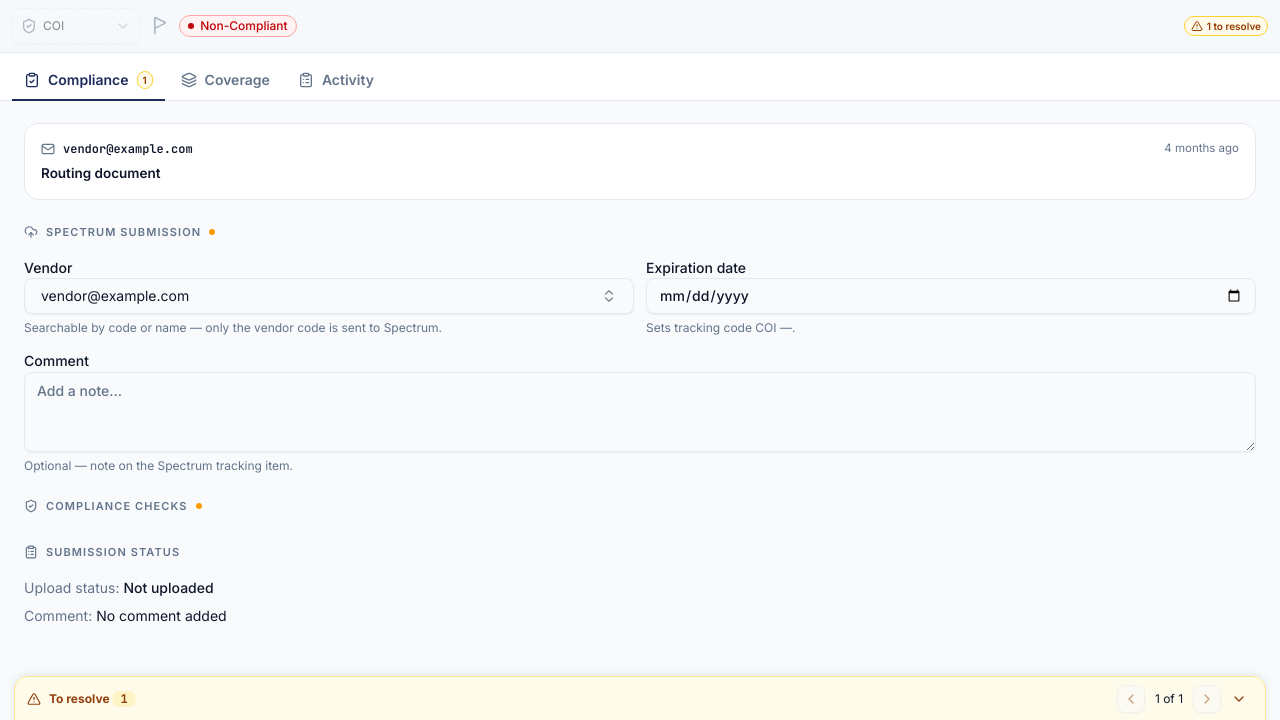
Test: DocumentPanelRouteSurface › renders the shared audit feed in the COI Activity tab
Click the tab "Activity" at (336, 81), box left=286, top=61, right=386, bottom=101
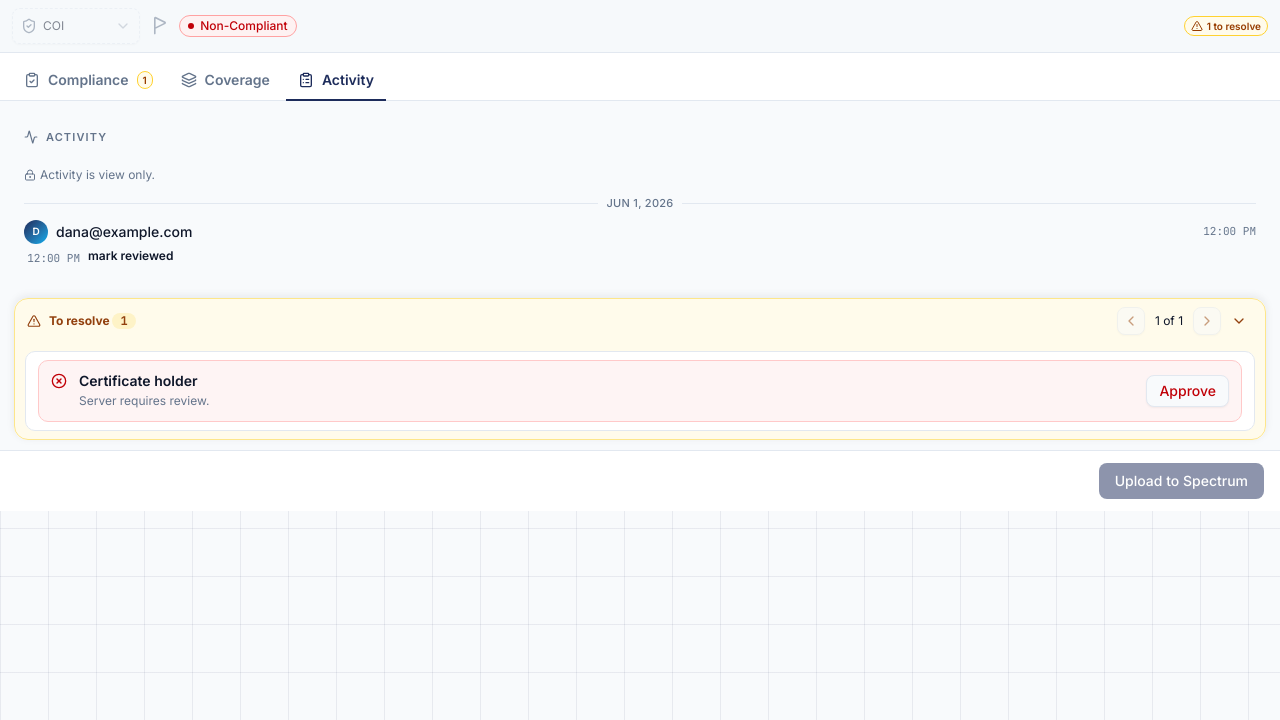
Now the text "mark reviewed" is shown, box left=88, top=248, right=174, bottom=262
Now the text "dana@example.com" is shown, box left=56, top=222, right=192, bottom=242
Now the text "Upload status:" is gone
